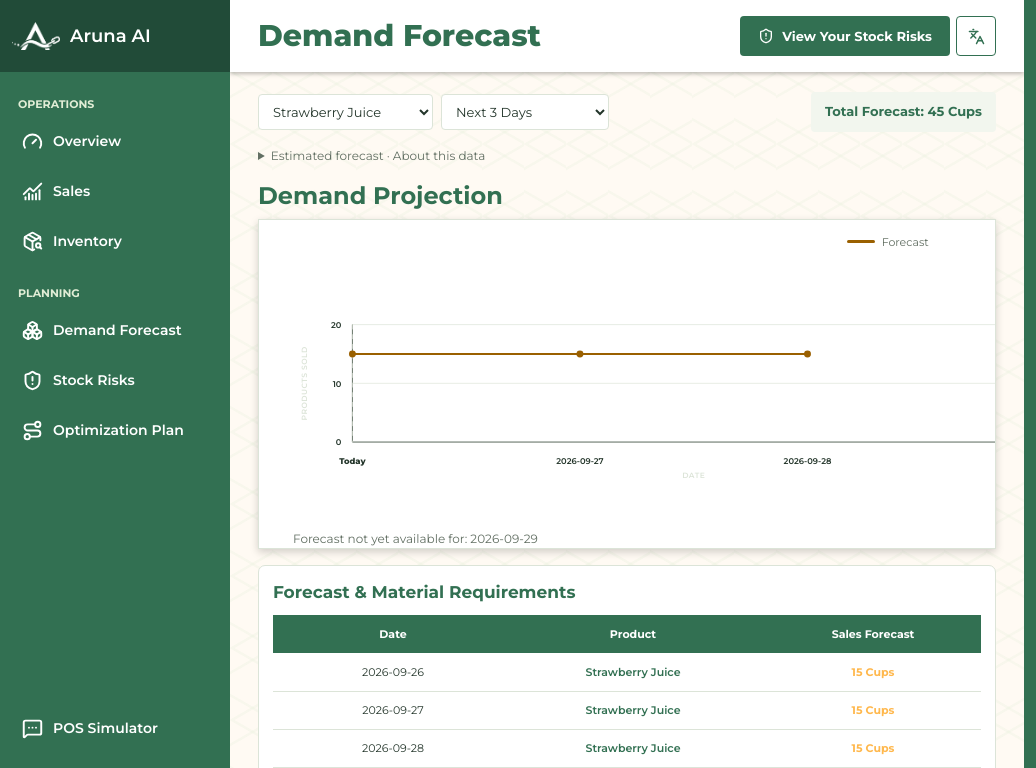
Test case: shows FALLBACK provenance independently from synthetic training
The width and height of the screenshot is (1036, 768).
Click the heading "Estimated forecast · About this data".
click(372, 155)  # box [258,146,485,165]
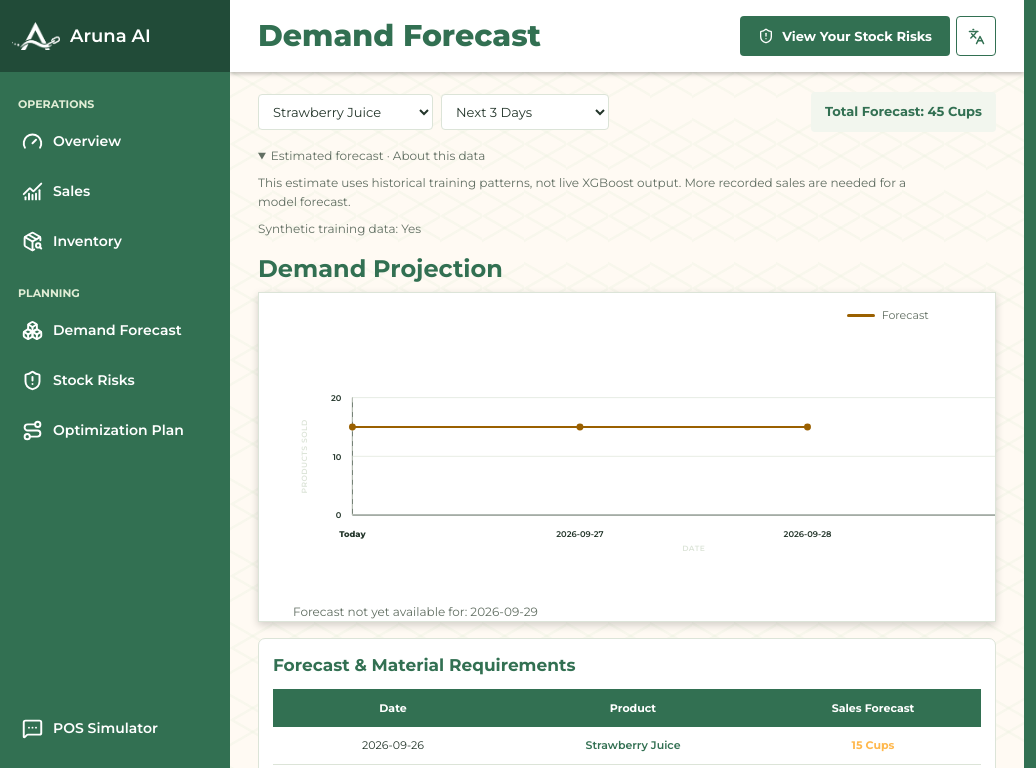
Now the text "Synthetic training data: Yes" is shown, box [258,221,421,236]
Select "Both Ranges" in the 2nd dropdown named "Chart range" at (525, 112), box [441,94,609,130]
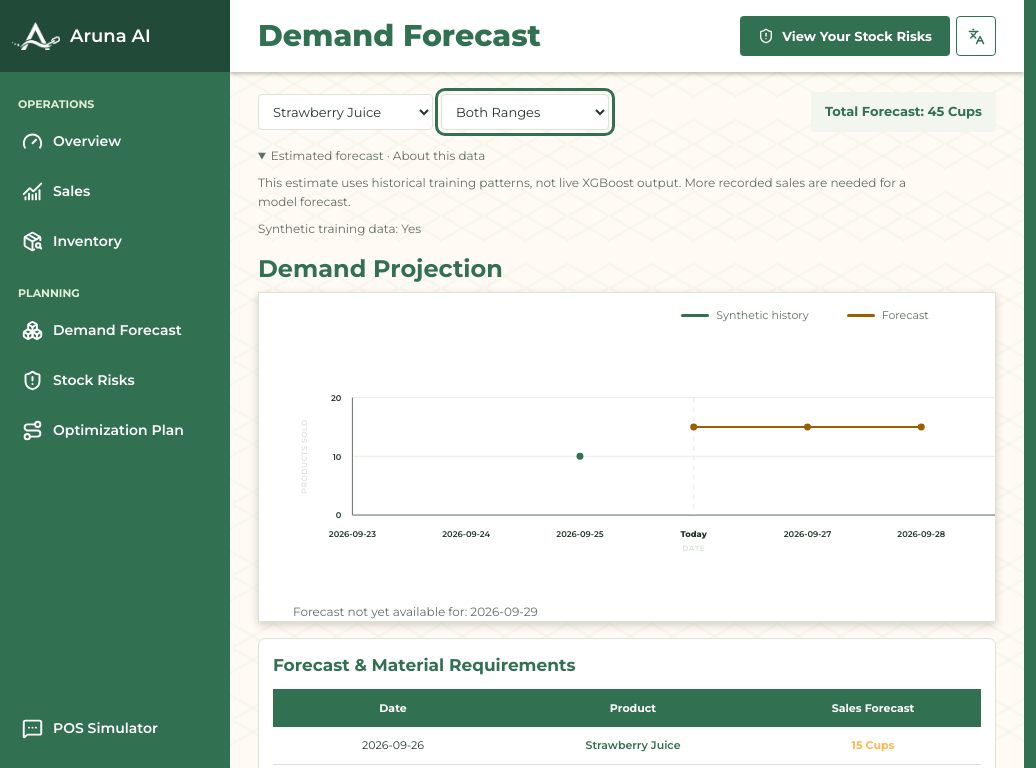
Now the text "not live XGBoost output" is shown, box [258,175,906,209]
Now the text "Synthetic history" is shown, box [681,307,809,324]
